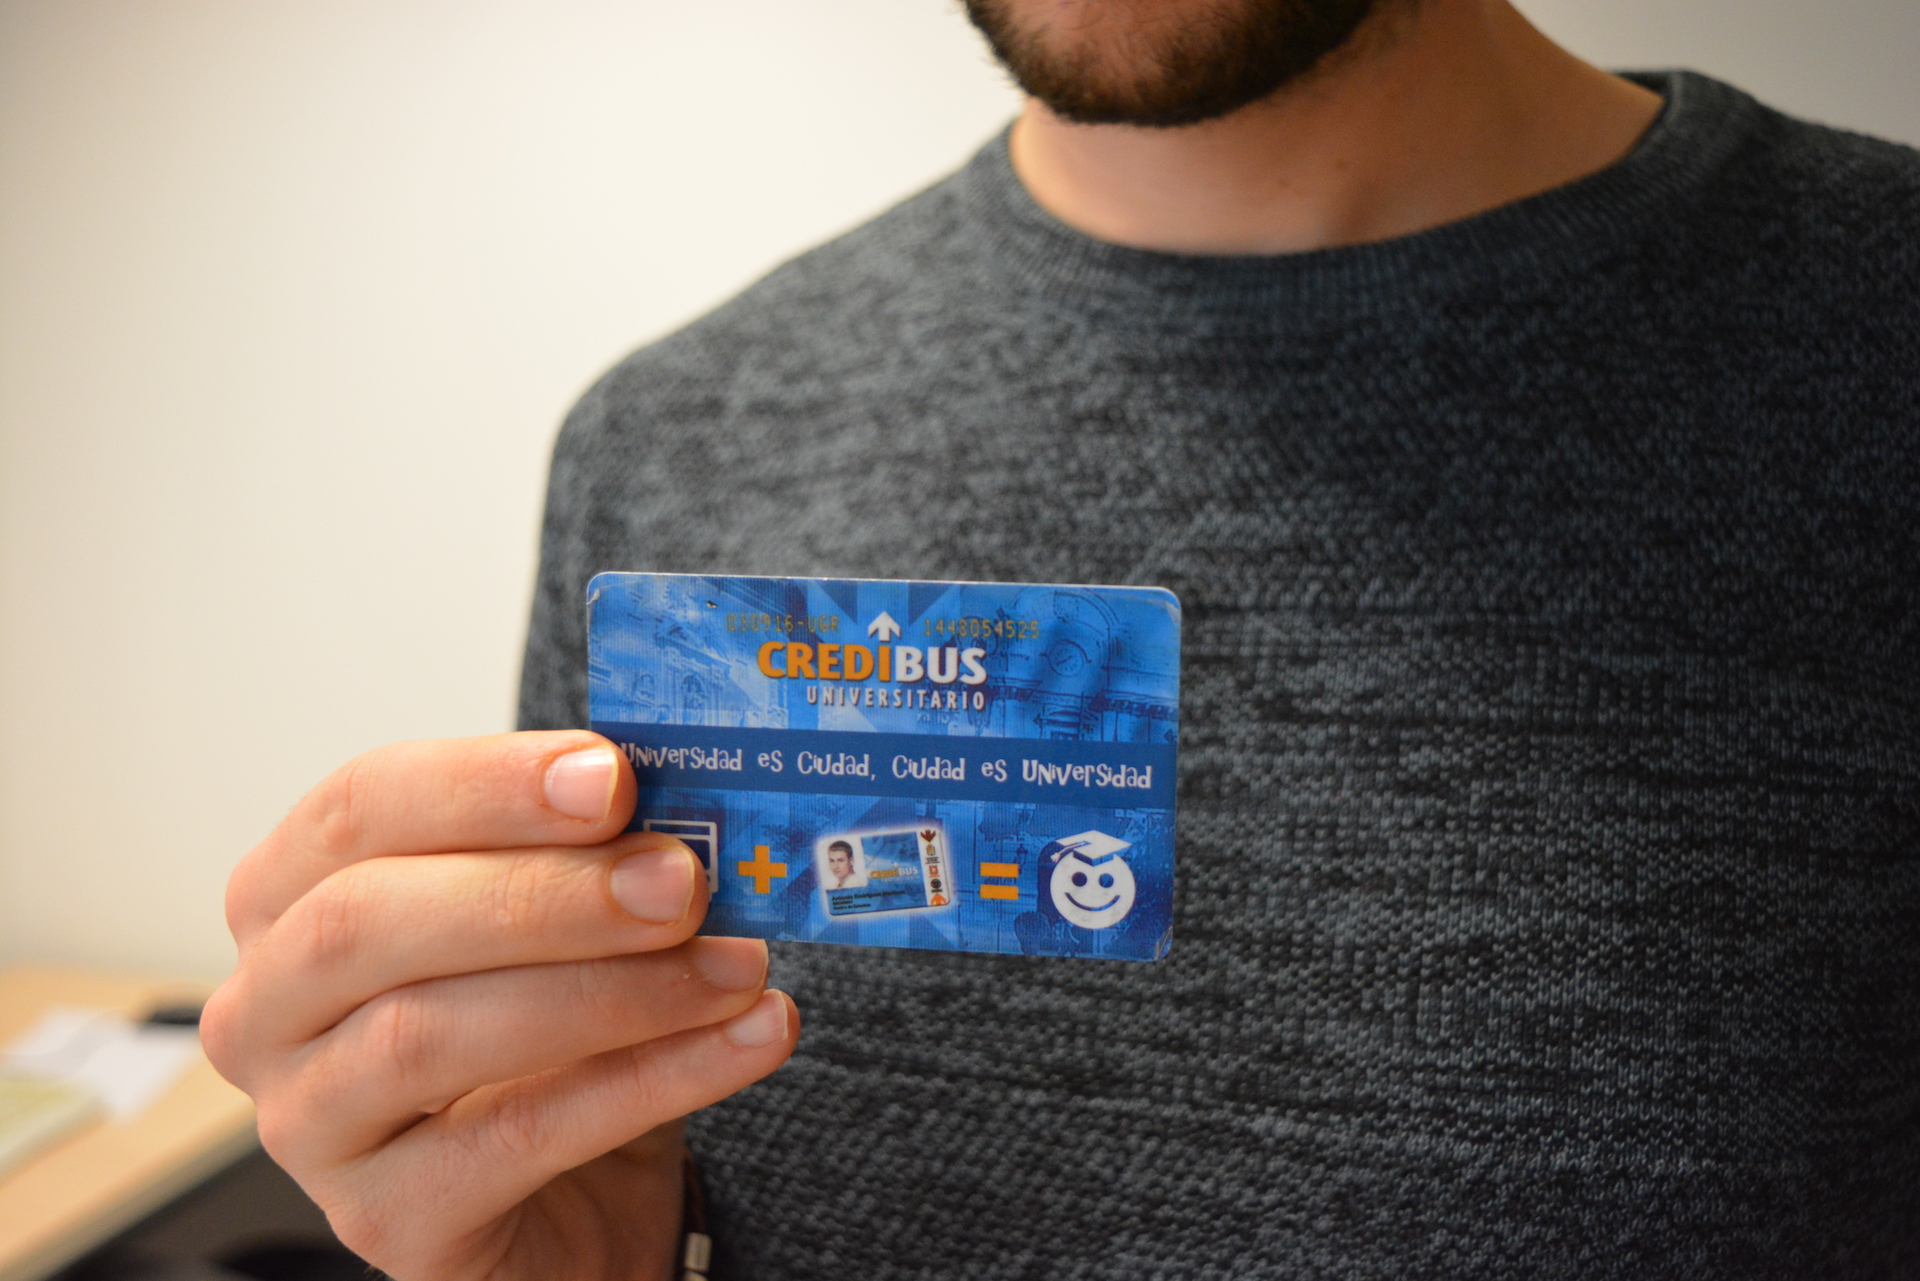tarjeta: (583, 569, 1187, 964)
